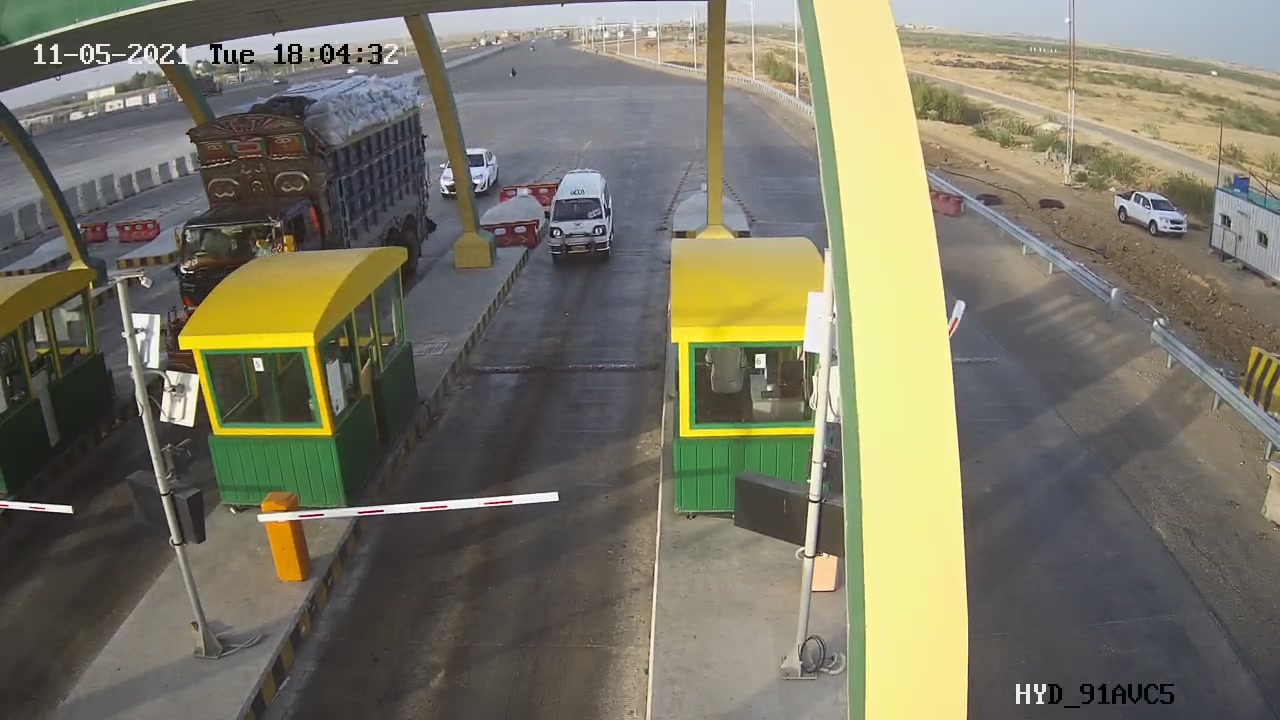F1: (521, 149, 639, 279)
